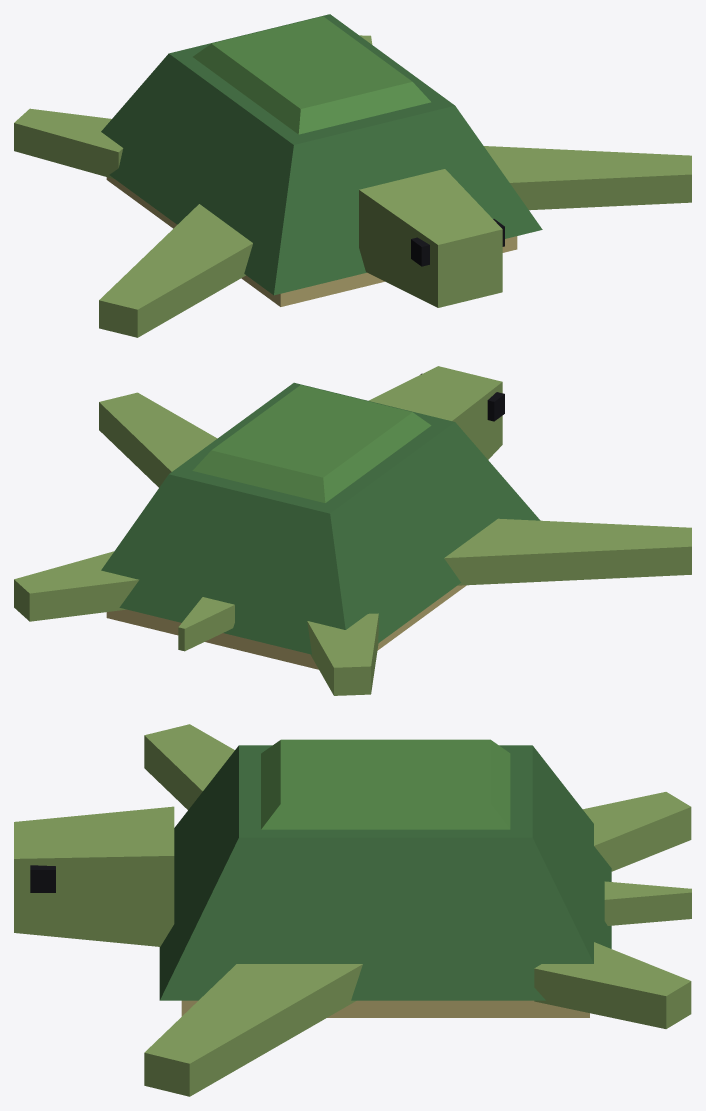
File: turtle.glb
3 views of the same model, one above another, from view 1: azimuth 30°, elevation 25°; view 2: azimuth 150°, elevation 25°; view 3: azimuth 270°, elevation 25° (orthographic). The views are drawn at different scales.
Parts seen in each view (by area): view 1: turtle; view 2: turtle; view 3: turtle.
Boxes of the visible parts, x1,y1,x2,y2 form: turtle: (14, 14, 691, 337); turtle: (14, 366, 691, 695); turtle: (14, 724, 691, 1096).
Size of the model in its own units: 1.1 by 0.27 by 0.93.
